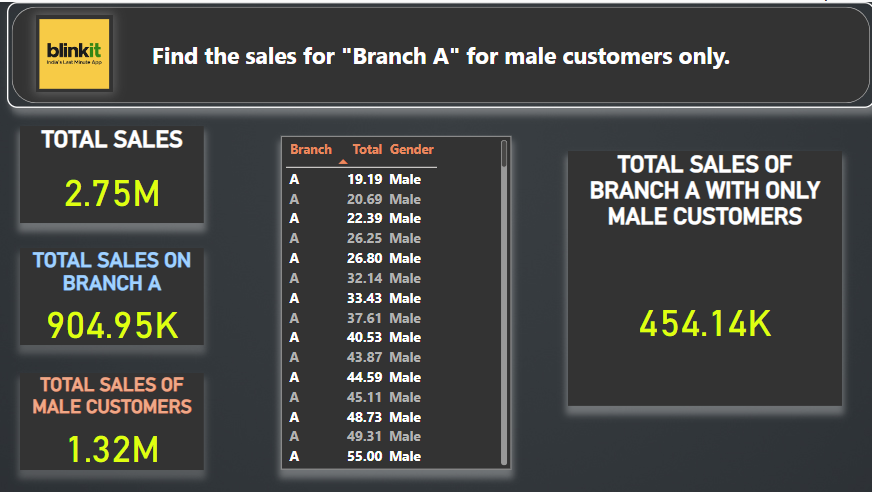

This screenshot's page, from the dashboard's own definition file:
{"tool":"powerbi","page":{"name":"4","canvas":[1280,720],"ordinal":4},"visuals":[{"type":"shape","box":[10,0,1270,155],"z":0},{"type":"image","box":[53.3,18.3,111.7,113.3],"z":1000},{"type":"tableEx","fields":{"Values":["blinkit dark store.Branch","blinkit dark store.Total","blinkit dark store.Gender"]},"box":[410.9,196.7,337.1,488.1],"z":2000},{"type":"card","title":"TOTAL SALES","fields":{"Values":["Sum(blinkit dark store.Total)"]},"box":[29.3,181.5,269.3,142],"z":3000},{"type":"card","title":"TOTAL SALES ON BRANCH A","fields":{"Values":["Sum(blinkit dark store.Total)"]},"box":[29.3,360,269.3,142],"z":4000},{"type":"card","title":"TOTAL SALES OF MALE CUSTOMERS","fields":{"Values":["Sum(blinkit dark store.Total)"]},"box":[29.3,542.9,269.3,142],"z":5000},{"type":"card","title":"TOTAL SALES OF BRANCH A WITH ONLY MALE CUSTOMERS","fields":{"Values":["Sum(blinkit dark store.Total)"]},"box":[831.2,218,401,373.2],"z":6000}]}

Visuals, with their boxes in screenshot pixels (x1, y1, x2, y2), scaled from the page's 1280x720 canvas onto the 872x492 screenshot:
shape: (7,0,871,106)
image: (36,13,112,90)
tableEx - blinkit dark store.Branch x blinkit dark store.Total: (280,134,510,468)
"TOTAL SALES" card: (20,124,203,221)
"TOTAL SALES ON BRANCH A" card: (20,246,203,343)
"TOTAL SALES OF MALE CUSTOMERS" card: (20,371,203,468)
"TOTAL SALES OF BRANCH A WITH ONLY MALE CUSTOMERS" card: (566,149,839,404)
